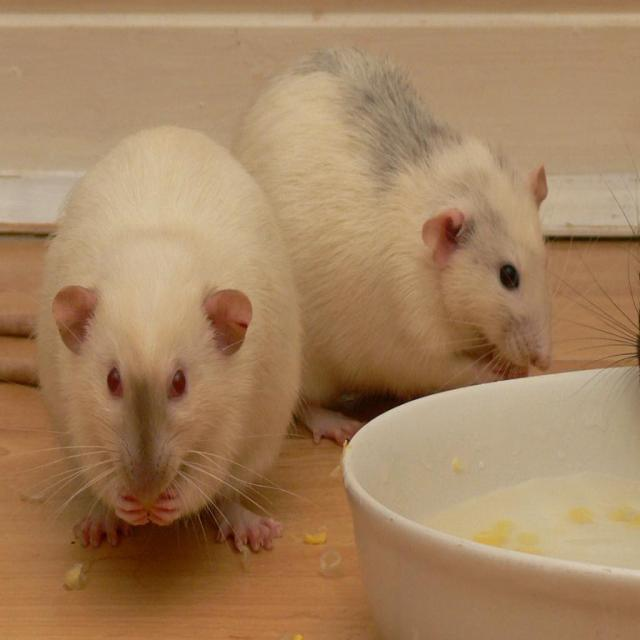rat: (0, 43, 552, 446), (0, 124, 304, 559)
